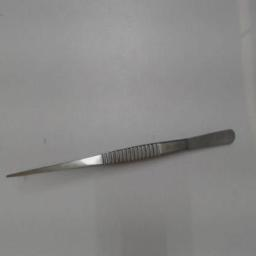DeBakey Dissector: (4, 119, 244, 183)
